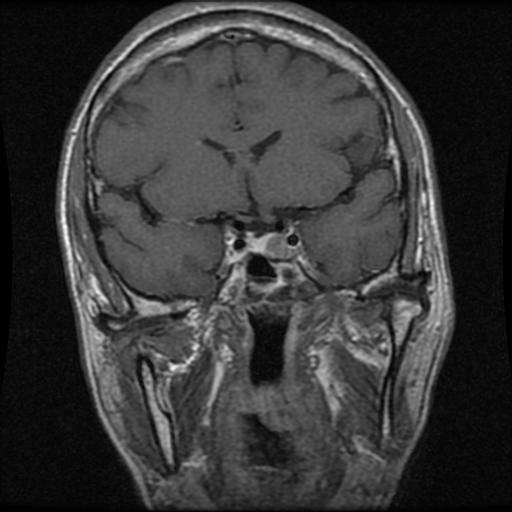Pituirity_tumour: (248, 232, 286, 256)
